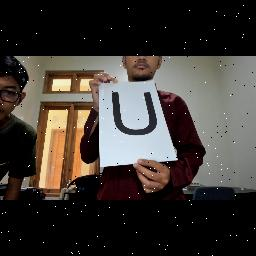u: (109, 90, 161, 142)
